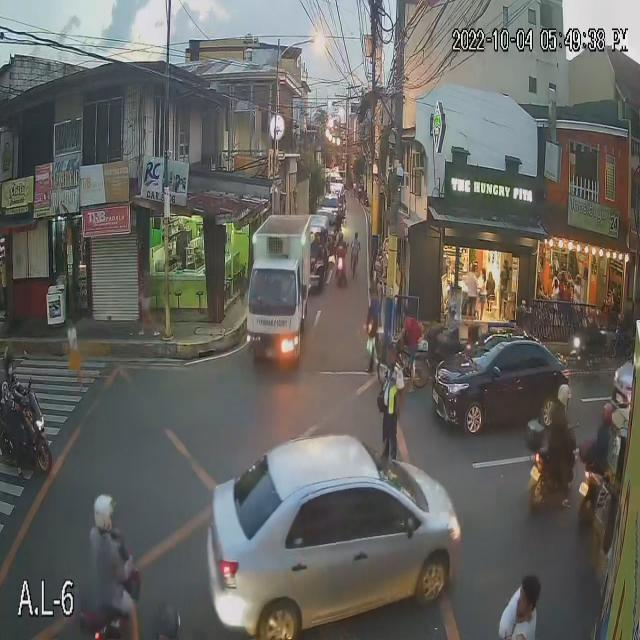helmet: (551, 381, 574, 407), (0, 345, 19, 376), (599, 402, 619, 425), (582, 309, 598, 327), (447, 301, 461, 320), (336, 231, 344, 242)
motorcycle: (524, 430, 588, 515), (0, 385, 56, 471), (415, 329, 472, 376), (580, 462, 619, 529), (570, 335, 607, 381), (330, 254, 352, 294)
rider: (543, 381, 580, 464), (0, 338, 25, 427), (590, 401, 622, 467), (440, 293, 466, 346), (584, 305, 602, 352), (334, 229, 349, 267)
